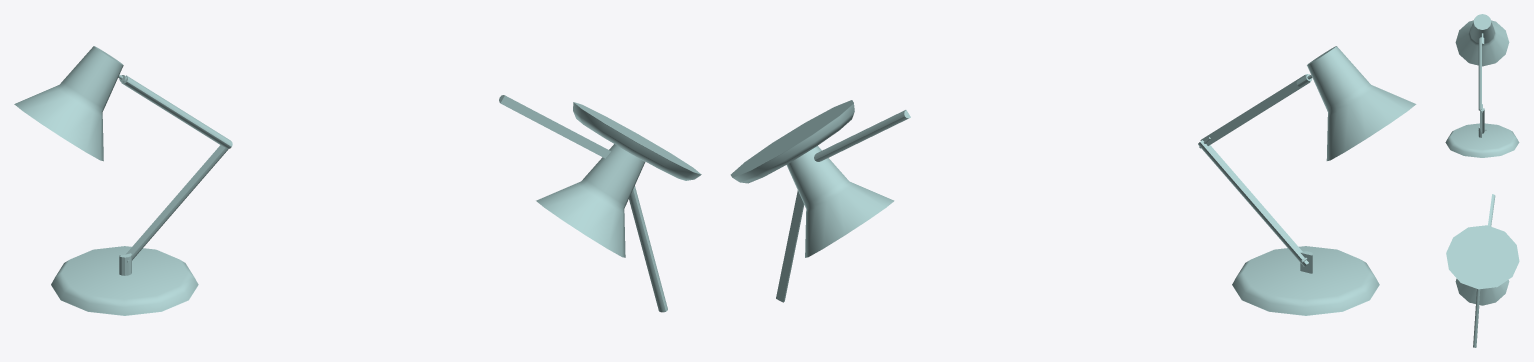
The model's file is lamp.fbx.
3 views of the same model, side by side, from view 1: azimuth 30°, elevation 25°; view 2: azimuth 150°, elevation 25°; view 3: azimuth 270°, elevation 25° (orthographic). The views are drawn at different scales.
Visible parts, largest first — view 1: LampBottomUp1:base_geo, LampBottomUp1:head_geo, head_geo, base_geo, LampBottomUp1:lower_arm_geo, LampBottomUp1:upper_arm_geo, upper_arm_geo, lower_arm_geo; view 2: LampBottomUp1:base_geo, LampBottomUp1:head_geo, head_geo, base_geo, LampBottomUp1:lower_arm_geo, LampBottomUp1:upper_arm_geo, upper_arm_geo, lower_arm_geo; view 3: base_geo, LampBottomUp1:base_geo, LampBottomUp1:head_geo, head_geo, LampBottomUp1:upper_arm_geo, upper_arm_geo, lower_arm_geo, LampBottomUp1:lower_arm_geo.
Part boxes in pixels (x1,y1,x2,y2): LampBottomUp1:base_geo: (51, 246, 198, 315); LampBottomUp1:head_geo: (14, 46, 123, 161); head_geo: (536, 144, 645, 257); base_geo: (573, 102, 701, 180); LampBottomUp1:lower_arm_geo: (125, 145, 228, 260); LampBottomUp1:upper_arm_geo: (118, 74, 232, 148); upper_arm_geo: (629, 186, 667, 312); lower_arm_geo: (499, 95, 610, 158); LampBottomUp1:base_geo: (1232, 246, 1379, 315); LampBottomUp1:head_geo: (1307, 46, 1416, 160); head_geo: (786, 146, 894, 257); base_geo: (730, 100, 854, 183); LampBottomUp1:lower_arm_geo: (1198, 137, 1308, 266); LampBottomUp1:upper_arm_geo: (1200, 74, 1312, 145); upper_arm_geo: (776, 190, 804, 302); lower_arm_geo: (814, 110, 910, 161); base_geo: (1446, 225, 1519, 289); LampBottomUp1:base_geo: (1445, 123, 1519, 157); LampBottomUp1:head_geo: (1455, 14, 1509, 66); head_geo: (1455, 278, 1509, 305); LampBottomUp1:upper_arm_geo: (1478, 33, 1484, 110); upper_arm_geo: (1473, 289, 1480, 347); lower_arm_geo: (1488, 194, 1495, 226); LampBottomUp1:lower_arm_geo: (1480, 104, 1484, 133).
Size of the model in its own units: 76.15 by 43.05 by 14.66.
